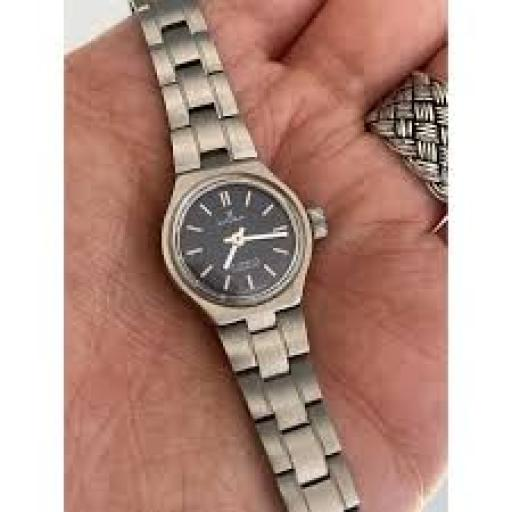KolSaati: (118, 0, 383, 512)
